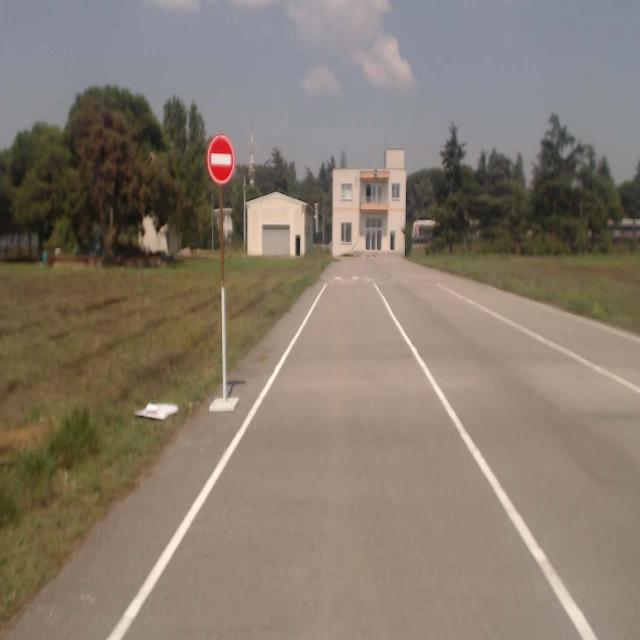girisyok: (206, 133, 234, 184)
